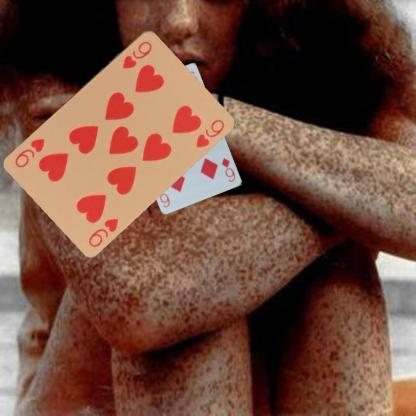6d: (219, 155, 236, 183)
9h: (86, 215, 120, 248), (120, 37, 153, 70)
